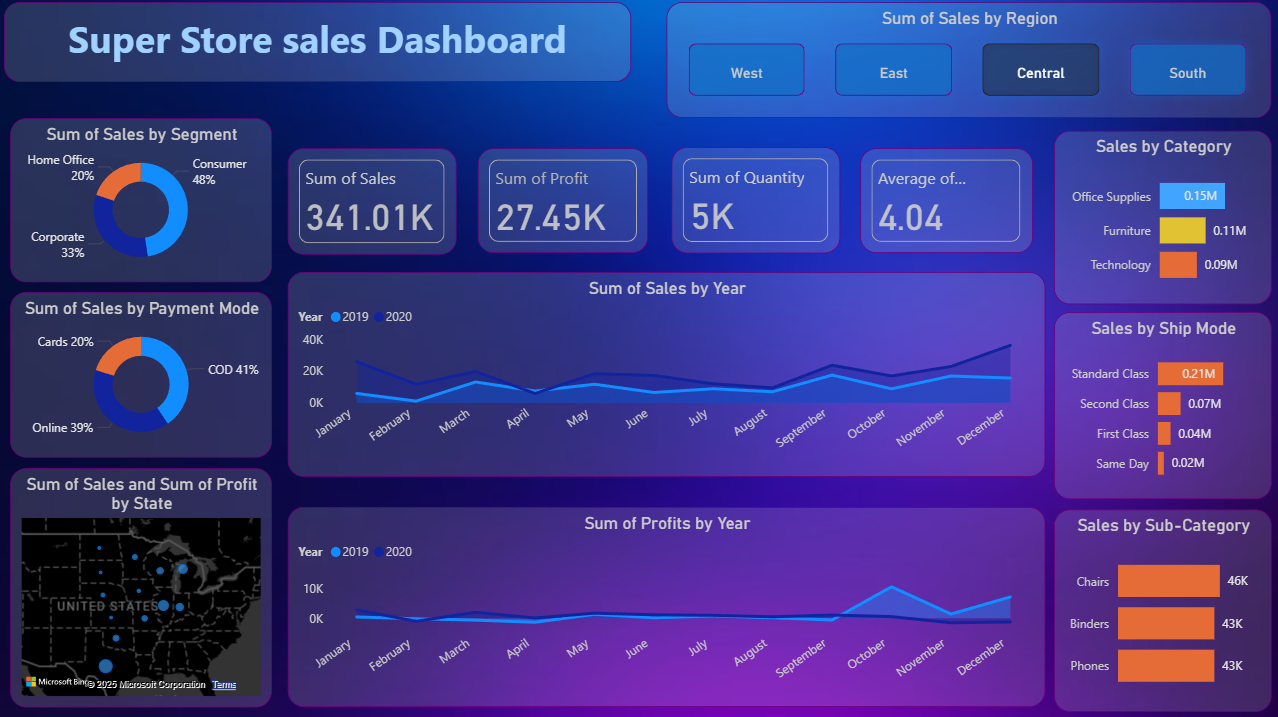

What the dashboard file says about the page in this screenshot:
{"tool":"powerbi","page":{"name":"Page 1","canvas":[1280,720],"ordinal":0},"visuals":[{"type":"clusteredBarChart","title":"Sales by Category","fields":{"Category":["SuperStore Sales DataSet.Category"],"Y":["Sum(SuperStore Sales DataSet.Sales)"]},"box":[1054.8,133.3,217.9,173.8],"z":0},{"type":"clusteredBarChart","title":"Sales by Sub-Category","fields":{"Category":["SuperStore Sales DataSet.Sub-Category"],"Y":["Sum(SuperStore Sales DataSet.Sales)"]},"box":[1054.8,511.9,217.9,202.4],"z":1000},{"type":"clusteredBarChart","title":"Sales by Ship Mode","fields":{"Category":["SuperStore Sales DataSet.Ship Mode","SuperStore Sales DataSet.Category"],"Y":["Sum(SuperStore Sales DataSet.Sales)"]},"box":[1054.8,315.5,217.9,186.9],"z":2000},{"type":"areaChart","title":"Sum of Sales by Year","fields":{"Y":["Sum(SuperStore Sales DataSet.Sales)"],"Category":["SuperStore Sales DataSet.Order Date.Variation.Date Hierarchy.Month","SuperStore Sales DataSet.Order Date.Variation.Date Hierarchy.Day"],"Series":["SuperStore Sales DataSet.Order Date.Variation.Date Hierarchy.Year"]},"box":[288.8,275,757.5,205],"z":3000},{"type":"areaChart","title":"Sum of Profits by Year","fields":{"Category":["SuperStore Sales DataSet.Order Date.Variation.Date Hierarchy.Month","SuperStore Sales DataSet.Order Date.Variation.Date Hierarchy.Day"],"Series":["SuperStore Sales DataSet.Order Date.Variation.Date Hierarchy.Year"],"Y":["Sum(SuperStore Sales DataSet.Profit)"]},"box":[288.8,510,757.5,200],"z":4000},{"type":"map","fields":{"Size":["Sum(SuperStore Sales DataSet.Sales)"],"Category":["SuperStore Sales DataSet.State"]},"box":[10.7,471.4,261.9,239.3],"z":5000},{"type":"donutChart","fields":{"Category":["SuperStore Sales DataSet.Segment"],"Y":["Sum(SuperStore Sales DataSet.Sales)"]},"box":[10.7,121.4,261.9,164.3],"z":6000},{"type":"advancedSlicerVisual","fields":{"Values":["SuperStore Sales DataSet.Region"]},"box":[667.5,5,605,116.2],"z":7000},{"type":"textbox","box":[5,5,627.5,80],"z":8000},{"type":"cardVisual","fields":{"Data":["Sum(SuperStore Sales DataSet.Sales)"]},"box":[288.8,151.2,168.8,106.2],"z":9000},{"type":"donutChart","fields":{"Category":["SuperStore Sales DataSet.Payment Mode","SuperStore Sales DataSet.Segment"],"Y":["Sum(SuperStore Sales DataSet.Sales)"]},"box":[10.7,295.2,261.9,165.5],"z":10000},{"type":"cardVisual","fields":{"Data":["Sum(SuperStore Sales DataSet.Profit)"]},"box":[478.8,151.2,170,105],"z":11000},{"type":"cardVisual","fields":{"Data":["Sum(SuperStore Sales DataSet.Quantity)"]},"box":[672.5,150,168.8,106.2],"z":12000},{"type":"cardVisual","fields":{"Data":["Avg(SuperStore Sales DataSet.AvgDelivery)"]},"box":[861.2,151.2,172.5,105],"z":13000}]}

Visuals, with their boxes in screenshot pixels (x1, y1, x2, y2), scaled from the page's 1280x720 canvas onto the 1278x717 screenshot:
"Sales by Category" clusteredBarChart: 1053/133/1271/306
"Sales by Sub-Category" clusteredBarChart: 1053/510/1271/711
"Sales by Ship Mode" clusteredBarChart: 1053/314/1271/500
"Sum of Sales by Year" areaChart: 288/274/1045/478
"Sum of Profits by Year" areaChart: 288/508/1045/707
map - Sum(SuperStore Sales DataSet.Sales) x SuperStore Sales DataSet.State: 11/469/272/708
donutChart - SuperStore Sales DataSet.Segment x Sum(SuperStore Sales DataSet.Sales): 11/121/272/285
advancedSlicerVisual - SuperStore Sales DataSet.Region: 666/5/1271/121
textbox: 5/5/632/85
cardVisual - Sum(SuperStore Sales DataSet.Sales): 288/151/457/256
donutChart - SuperStore Sales DataSet.Payment Mode x SuperStore Sales DataSet.Segment: 11/294/272/459
cardVisual - Sum(SuperStore Sales DataSet.Profit): 478/151/648/255
cardVisual - Sum(SuperStore Sales DataSet.Quantity): 671/149/840/255
cardVisual - Avg(SuperStore Sales DataSet.AvgDelivery): 860/151/1032/255
